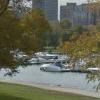Boat: (26, 48, 81, 73)
